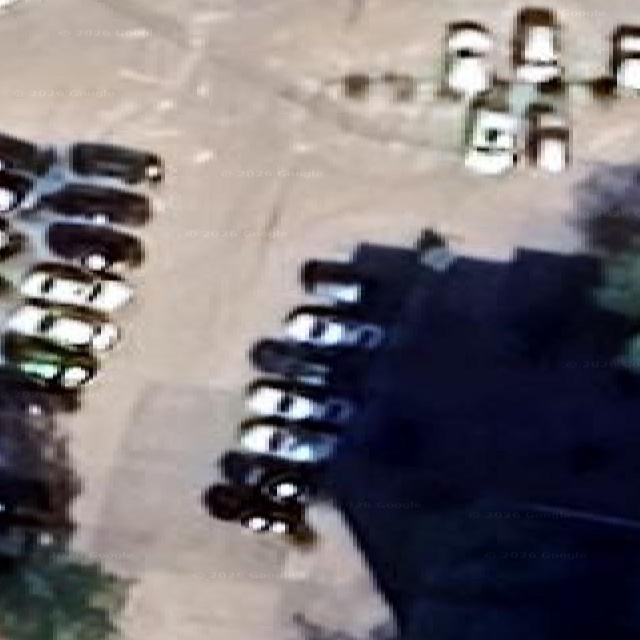car: (0, 407, 77, 569), (0, 404, 76, 515), (0, 468, 72, 571), (0, 387, 63, 482), (3, 300, 119, 351), (20, 261, 131, 312), (0, 415, 49, 528), (3, 332, 96, 388), (579, 171, 639, 256), (201, 484, 304, 533), (218, 449, 315, 500), (37, 181, 151, 224), (45, 221, 143, 270), (244, 379, 352, 422), (580, 24, 639, 100), (238, 417, 337, 462), (464, 92, 519, 173), (283, 304, 383, 348), (0, 372, 64, 436), (592, 224, 636, 316), (0, 364, 77, 416), (68, 141, 163, 183), (440, 20, 492, 96), (512, 7, 560, 83), (249, 339, 329, 383), (0, 387, 67, 439), (0, 464, 45, 532), (0, 366, 55, 419), (300, 261, 369, 303), (527, 103, 568, 171), (0, 132, 55, 175), (340, 71, 416, 101), (0, 512, 35, 572), (609, 24, 639, 91), (415, 227, 455, 271), (612, 333, 639, 395), (0, 168, 32, 212), (380, 71, 416, 101), (0, 216, 24, 259), (580, 74, 615, 101), (342, 71, 371, 99), (415, 227, 446, 252), (608, 204, 635, 227), (615, 263, 633, 288), (0, 275, 13, 295), (0, 367, 9, 391), (0, 0, 20, 8), (13, 372, 26, 384), (0, 367, 8, 380), (603, 260, 613, 267), (44, 449, 52, 457), (0, 496, 5, 506), (0, 544, 5, 551), (0, 507, 4, 515), (3, 384, 8, 390), (617, 355, 623, 360), (3, 487, 7, 491), (627, 344, 631, 347), (628, 333, 632, 336), (9, 544, 12, 547), (44, 451, 49, 452), (632, 296, 633, 300), (4, 540, 5, 543), (626, 351, 628, 352)
